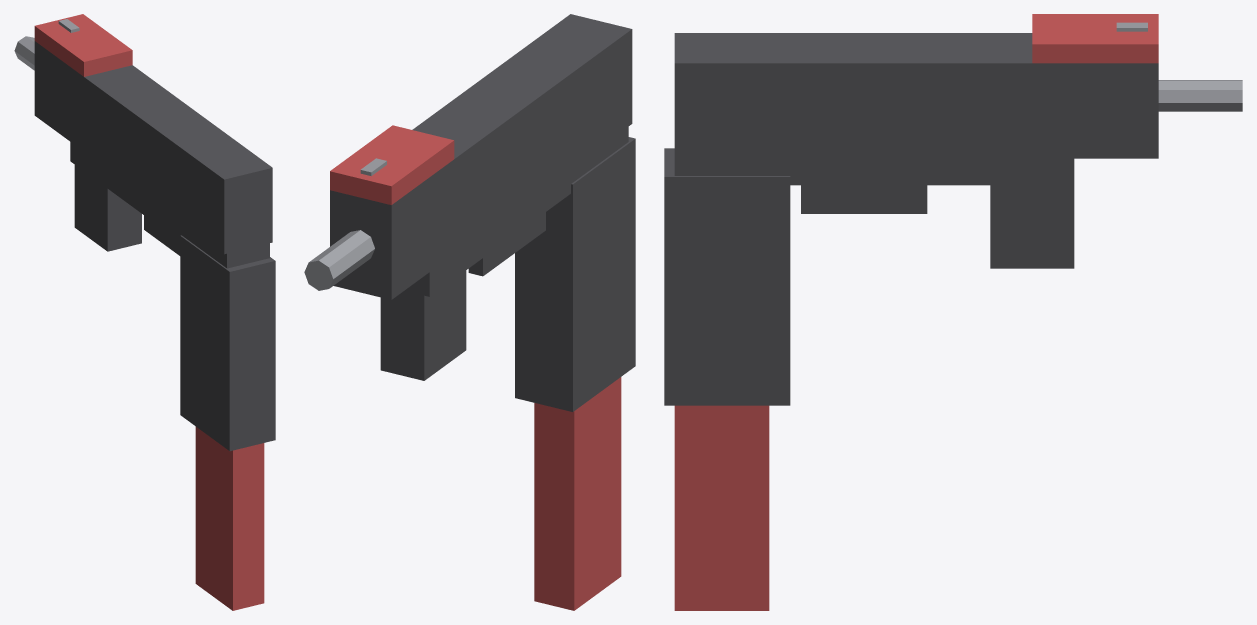
The model's file is machinepistol.glb.
3 renders of one model, left to right at view 1: azimuth 30°, elevation 25°; view 2: azimuth 150°, elevation 25°; view 3: azimuth 270°, elevation 25°, orthographic. The views are drawn at different scales.
Visible parts, largest first — view 1: MachinePistol; view 2: MachinePistol; view 3: MachinePistol.
Part boxes in pixels (<box>): MachinePistol: <box>14,14,275,610</box>; MachinePistol: <box>304,14,635,610</box>; MachinePistol: <box>664,14,1242,610</box>.
Size of the model in its own units: 0.034 by 0.302 by 0.275.
